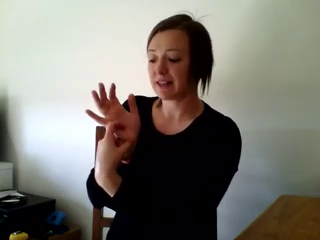R: (78, 77, 143, 184)
